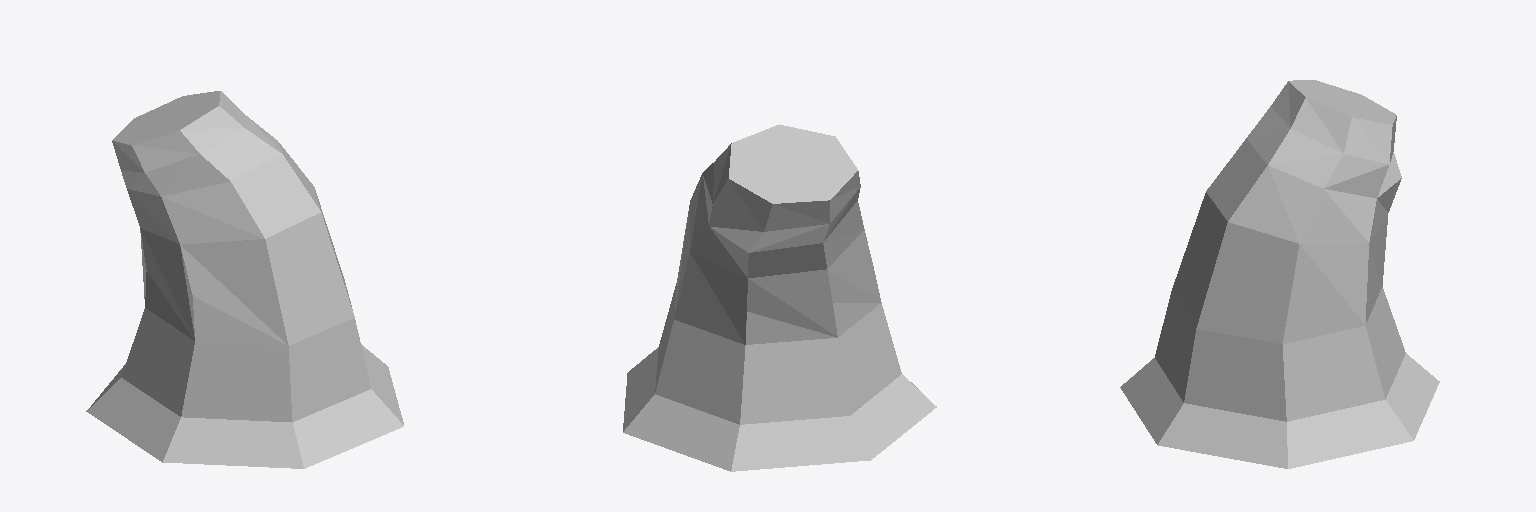
Rendered from stem 2.obj.
3 views of the same model, side by side, from view 1: azimuth 30°, elevation 25°; view 2: azimuth 150°, elevation 25°; view 3: azimuth 270°, elevation 25° (orthographic).
Visible parts, largest first — view 1: stem; view 2: stem; view 3: stem.
Boxes of the visible parts, x1=… form: stem: x1=86, y1=91, x2=403, y2=468; stem: x1=623, y1=124, x2=936, y2=471; stem: x1=1120, y1=80, x2=1439, y2=468.
Size of the model in its own units: 29.93 by 30.8 by 30.42.